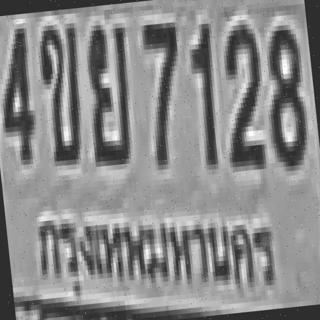A02: (35, 18, 88, 162)
A34: (78, 18, 136, 162)
N01: (185, 18, 222, 165)
N02: (215, 16, 268, 165)
N04: (0, 23, 35, 162)
N07: (138, 18, 187, 166)
N08: (258, 19, 310, 168)
P04: (24, 185, 284, 320)
